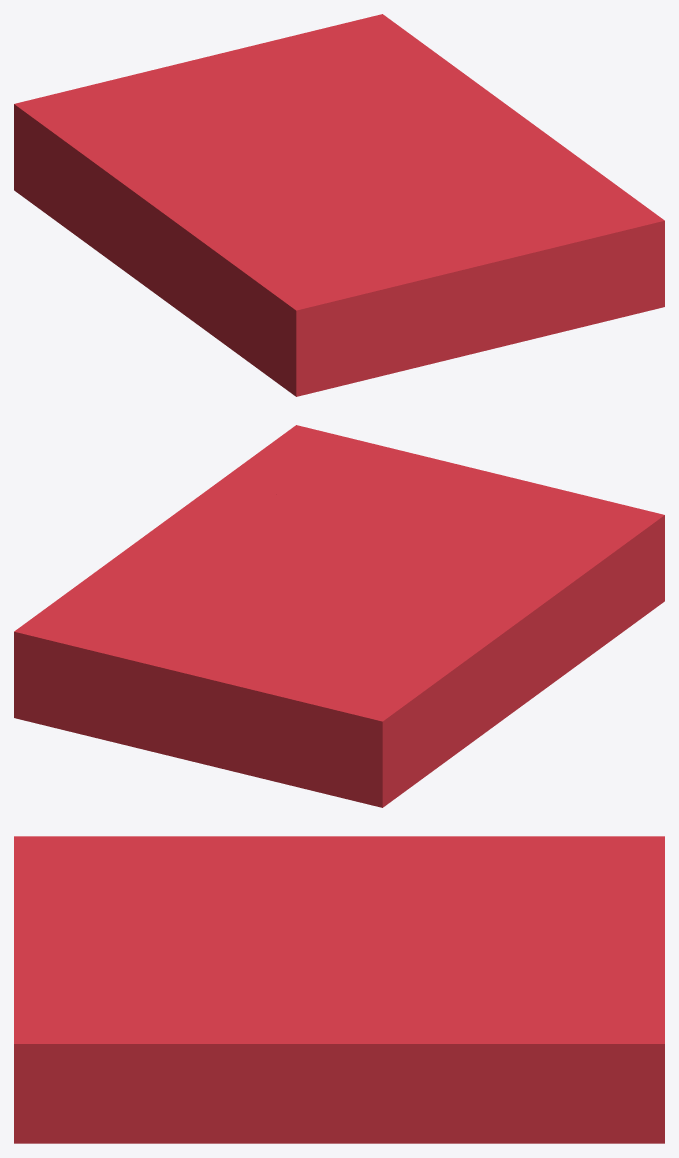
Rendered from M_Breakable_Object.fbx.
3 renders of one model, top to bottom at view 1: azimuth 30°, elevation 25°; view 2: azimuth 150°, elevation 25°; view 3: azimuth 270°, elevation 25°, orthographic. The views are drawn at different scales.
Visible parts, largest first — view 1: M_level_end_breakable_full, M_level_end_breakable_cell.012, M_level_end_breakable_cell, M_level_end_breakable_cell.005, M_level_end_breakable_cell.007, M_level_end_breakable_cell.011, M_level_end_breakable_cell.004, M_level_end_breakable_cell.010, M_level_end_breakable_cell.014, M_level_end_breakable_cell.009; view 2: M_level_end_breakable_full, M_level_end_breakable_cell.012, M_level_end_breakable_cell.004, M_level_end_breakable_cell.005, M_level_end_breakable_cell.007, M_level_end_breakable_cell.003, M_level_end_breakable_cell.011, M_level_end_breakable_cell.013, M_level_end_breakable_cell, M_level_end_breakable_cell.014, M_level_end_breakable_cell.010, M_level_end_breakable_cell.009 (+1 smaller); view 3: M_level_end_breakable_full, M_level_end_breakable_cell.007, M_level_end_breakable_cell.012, M_level_end_breakable_cell.010, M_level_end_breakable_cell.005, M_level_end_breakable_cell.011, M_level_end_breakable_cell.006, M_level_end_breakable_cell, M_level_end_breakable_cell.009, M_level_end_breakable_cell.003.
Boxes of the visible parts, x1=… form: M_level_end_breakable_full: x1=14, y1=14, x2=664, y2=396; M_level_end_breakable_cell.012: x1=229, y1=126, x2=514, y2=244; M_level_end_breakable_cell: x1=219, y1=245, x2=492, y2=396; M_level_end_breakable_cell.005: x1=212, y1=229, x2=444, y2=322; M_level_end_breakable_cell.007: x1=450, y1=175, x2=664, y2=266; M_level_end_breakable_cell.011: x1=118, y1=146, x2=306, y2=337; M_level_end_breakable_cell.004: x1=14, y1=104, x2=82, y2=213; M_level_end_breakable_cell.010: x1=396, y1=95, x2=538, y2=187; M_level_end_breakable_cell.014: x1=84, y1=157, x2=154, y2=292; M_level_end_breakable_cell.009: x1=532, y1=128, x2=601, y2=182; M_level_end_breakable_full: x1=14, y1=471, x2=664, y2=807; M_level_end_breakable_cell.012: x1=240, y1=492, x2=490, y2=617; M_level_end_breakable_cell.004: x1=200, y1=670, x2=453, y2=793; M_level_end_breakable_cell.005: x1=456, y1=493, x2=664, y2=635; M_level_end_breakable_cell.007: x1=234, y1=425, x2=483, y2=495; M_level_end_breakable_cell.003: x1=14, y1=640, x2=171, y2=756; M_level_end_breakable_cell.011: x1=414, y1=552, x2=579, y2=703; M_level_end_breakable_cell.013: x1=119, y1=658, x2=212, y2=763; M_level_end_breakable_cell: x1=455, y1=471, x2=664, y2=652; M_level_end_breakable_cell.014: x1=451, y1=646, x2=524, y2=751; M_level_end_breakable_cell.010: x1=170, y1=492, x2=302, y2=573; M_level_end_breakable_cell.009: x1=171, y1=471, x2=283, y2=516; M_level_end_breakable_full: x1=14, y1=836, x2=664, y2=1143; M_level_end_breakable_cell.007: x1=14, y1=938, x2=179, y2=1143; M_level_end_breakable_cell.012: x1=81, y1=888, x2=423, y2=999; M_level_end_breakable_cell.010: x1=178, y1=988, x2=497, y2=1143; M_level_end_breakable_cell.005: x1=14, y1=836, x2=208, y2=936; M_level_end_breakable_cell.011: x1=201, y1=836, x2=459, y2=894; M_level_end_breakable_cell.006: x1=456, y1=1044, x2=664, y2=1111; M_level_end_breakable_cell: x1=14, y1=862, x2=82, y2=938; M_level_end_breakable_cell.009: x1=159, y1=1010, x2=303, y2=1043; M_level_end_breakable_cell.003: x1=492, y1=1056, x2=664, y2=1143.
Size of the model in its own units: 1.89 by 0.4225 by 2.5.
